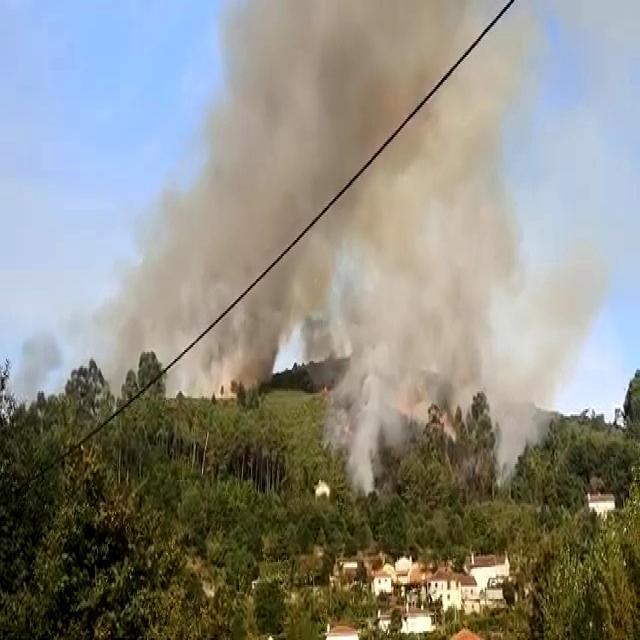Smoke: (316, 0, 572, 488), (105, 0, 384, 397)
